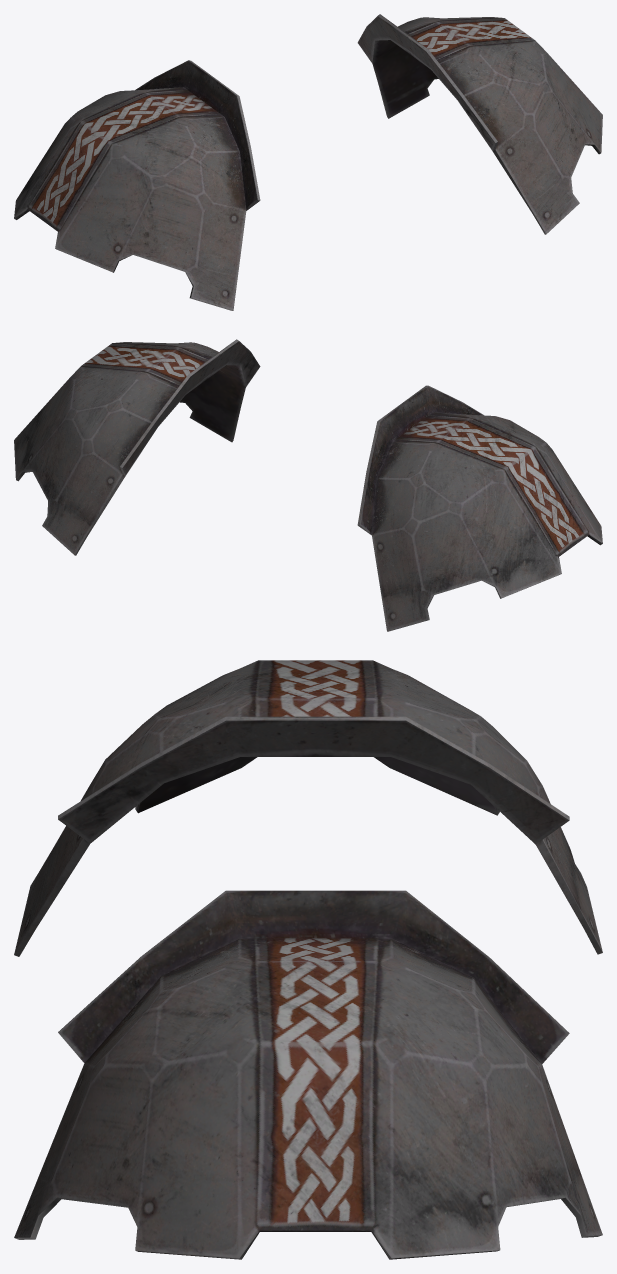
The model's file is sk_dwarf_iron_pauldron_heavy_a.fbx.
3 views of the same model, one above another, from view 1: azimuth 30°, elevation 25°; view 2: azimuth 150°, elevation 25°; view 3: azimuth 270°, elevation 25° (orthographic). The views are drawn at different scales.
Visible parts, largest first — view 1: sk_dwarf_iron_pauldron_heavy_a; view 2: sk_dwarf_iron_pauldron_heavy_a; view 3: sk_dwarf_iron_pauldron_heavy_a.
Boxes of the visible parts, bbox=[...] form: sk_dwarf_iron_pauldron_heavy_a: bbox=[14, 14, 602, 310]; sk_dwarf_iron_pauldron_heavy_a: bbox=[14, 339, 602, 631]; sk_dwarf_iron_pauldron_heavy_a: bbox=[14, 660, 602, 1259].
Bounding box in the file's own units: 0.6208 × 0.3119 × 0.1726.
Materials: 1 (1 with a texture image).
